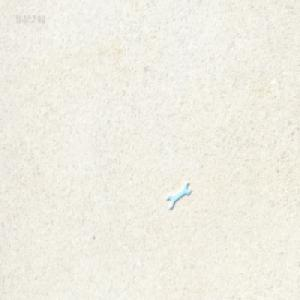Wrench: (166, 180, 191, 209)
